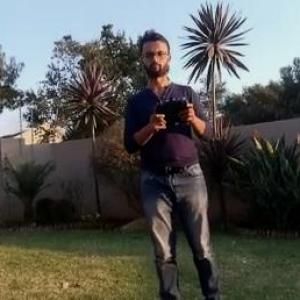follow: (122, 21, 240, 299)
